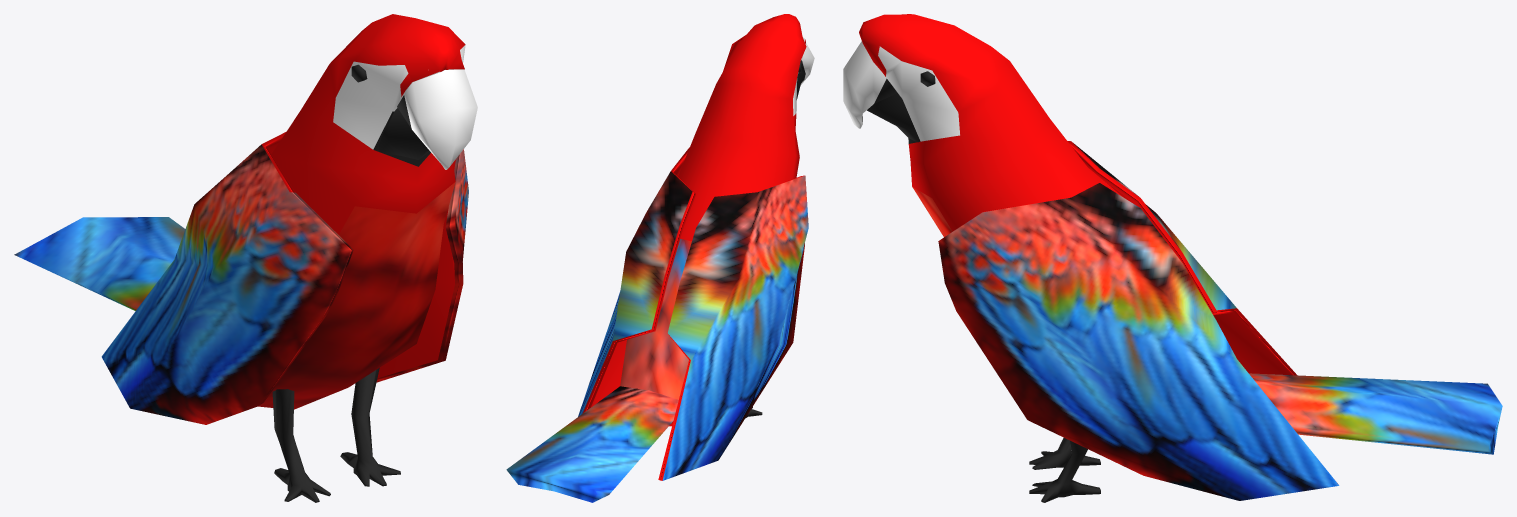
File: Macaw01.glb
The picture shows the model from 3 angles, left to right: view 1: azimuth 30°, elevation 25°; view 2: azimuth 150°, elevation 25°; view 3: azimuth 270°, elevation 25°; orthographic projection. The views are drawn at different scales.
Visible parts, largest first — view 1: Macaw01; view 2: Macaw01; view 3: Macaw01.
Boxes of the visible parts, x1,y1,x2,y2 form: Macaw01: (14,14,477,502); Macaw01: (506,14,814,502); Macaw01: (843,14,1502,502).
Size of what is drawn, in the model's own units: 0.2695 by 0.5527 by 0.7122.
1 material, 1 textured.
